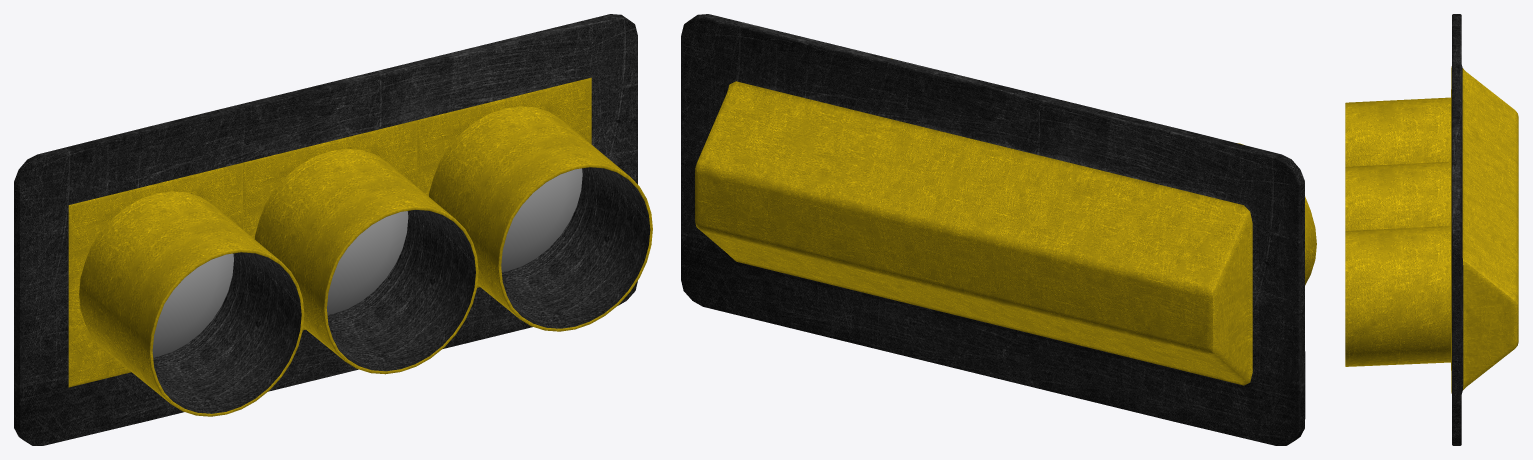
Rendered from TrafficSignalHorizontalFullConeYelllowBlack3.fbx.
3 views of the same model, side by side, from view 1: azimuth 30°, elevation 25°; view 2: azimuth 150°, elevation 25°; view 3: azimuth 270°, elevation 25° (orthographic). The views are drawn at different scales.
Parts seen in each view (by area): view 1: Casing, SignalLight1, SignalLight0, SignalLight2; view 2: Casing; view 3: Casing.
Part boxes in pixels (left/top/right/bottom): Casing: left=14, top=14, right=652, bottom=445; SignalLight1: left=327, top=211, right=408, bottom=314; SignalLight0: left=152, top=253, right=233, bottom=357; SignalLight2: left=501, top=168, right=582, bottom=271; Casing: left=681, top=14, right=1316, bottom=445; Casing: left=1345, top=14, right=1518, bottom=445.
Bounding box in the file's own units: 1.47 × 0.6568 × 0.473.
